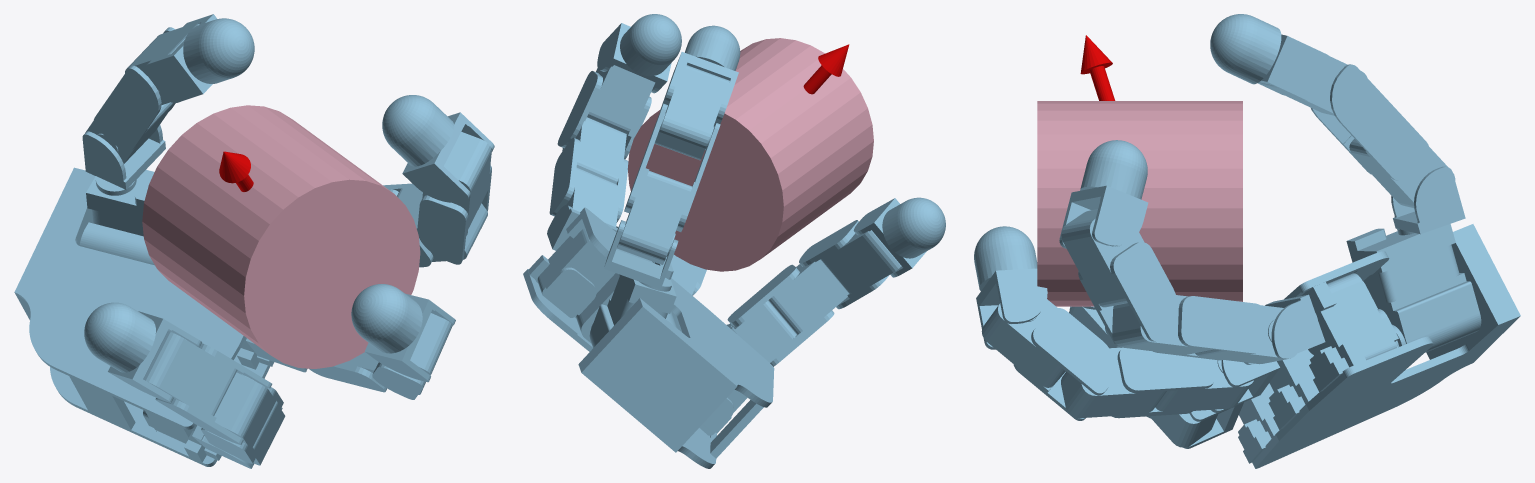
3 renders of one model, left to right at view 1: azimuth 30°, elevation 25°; view 2: azimuth 150°, elevation 25°; view 3: azimuth 270°, elevation 25°, orthographic. The views are drawn at different scales.
Parts seen in each view (by area): view 1: world, cylinder_medium.stl; view 2: world, cylinder_medium.stl; view 3: world, cylinder_medium.stl.
Boxes of the visible parts, box(x1,y1,x2,y2) form: world: box(14, 14, 494, 468); cylinder_medium.stl: box(142, 105, 420, 368); world: box(523, 14, 945, 468); cylinder_medium.stl: box(627, 38, 873, 271); world: box(974, 14, 1520, 468); cylinder_medium.stl: box(1037, 101, 1242, 306).
Bounding box in the file's own units: 0.1889 × 0.1952 × 0.2125.
